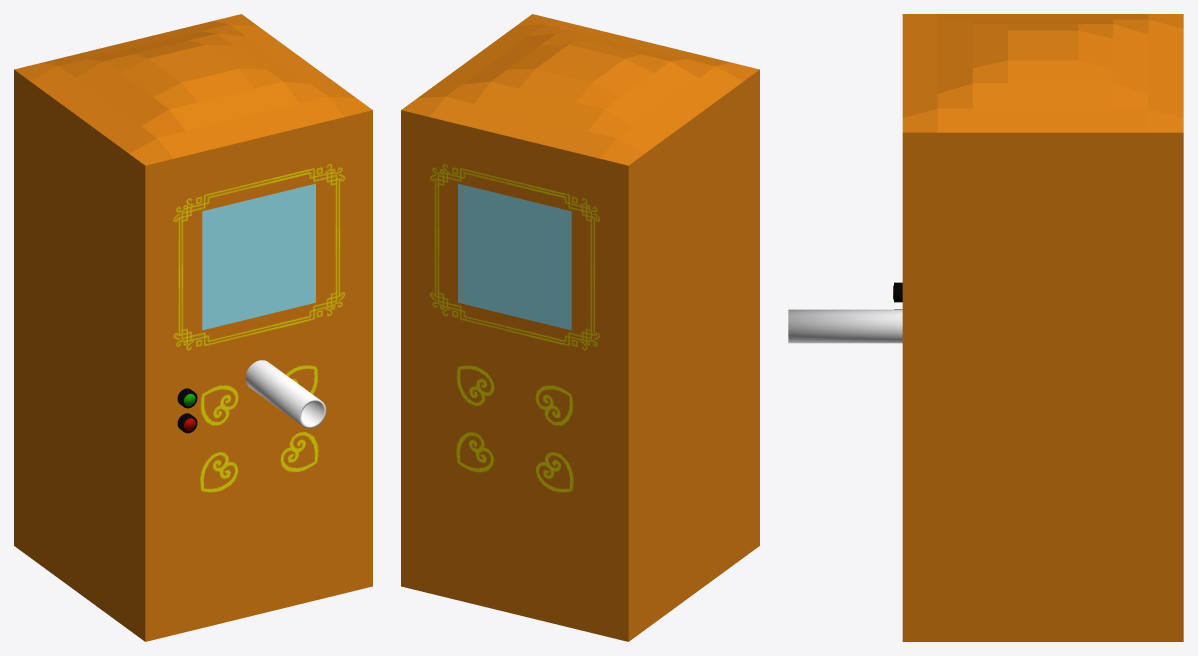
The model's file is CottonMachine.fbx.
The picture shows the model from 3 angles, left to right: view 1: azimuth 30°, elevation 25°; view 2: azimuth 150°, elevation 25°; view 3: azimuth 270°, elevation 25°; orthographic projection. The views are drawn at different scales.
Parts seen in each view (by area): view 1: Box; view 2: Box; view 3: Box.
Part boxes in pixels (x1,y1,x2,y2): Box: (14,14,372,641); Box: (401,14,759,641); Box: (788,14,1183,641).
Size of the model in its own units: 2 by 4.22 by 2.81.
